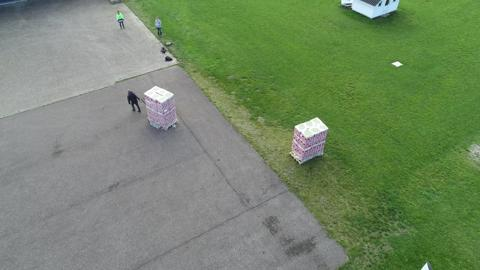RockwoolPallet: (145, 86, 175, 130)
